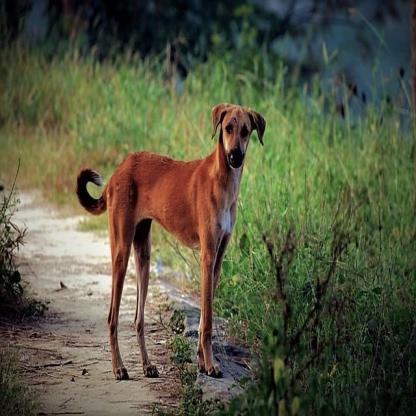dog: (90, 108, 257, 350)
